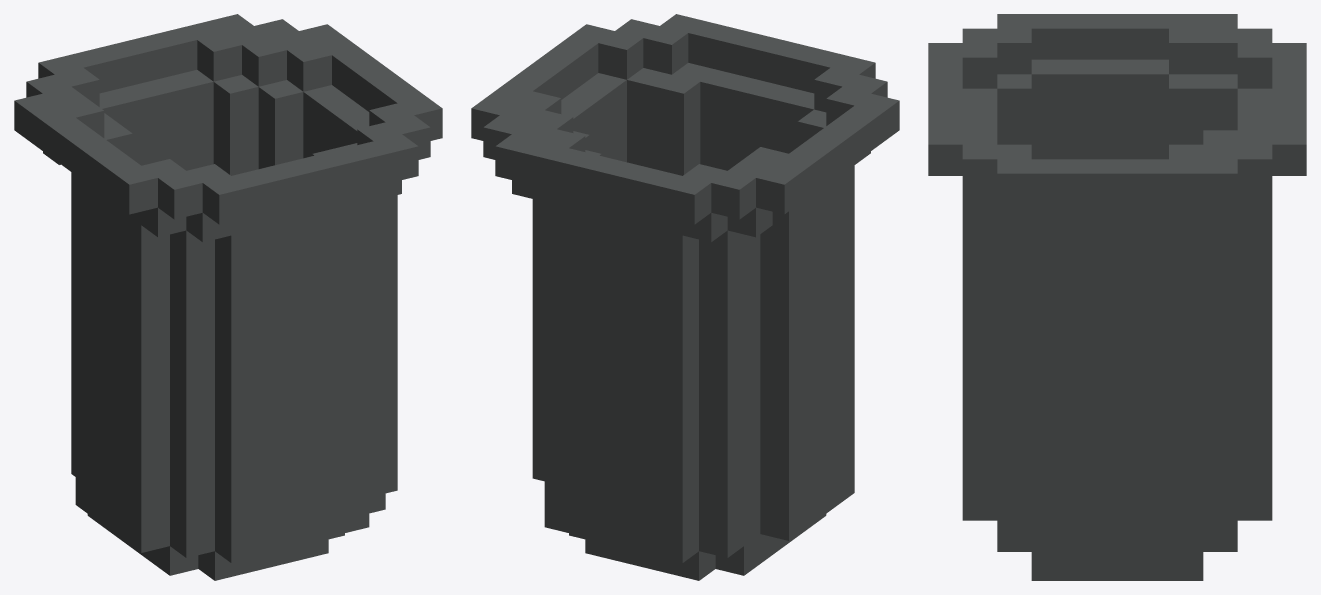
The model's file is lvl1-3.obj.
3 renders of one model, left to right at view 1: azimuth 30°, elevation 25°; view 2: azimuth 150°, elevation 25°; view 3: azimuth 270°, elevation 25°, orthographic. The views are drawn at different scales.
Size of the model in its own units: 1.1 by 1.4 by 1.1.
Materials: 1 (1 with a texture image).
